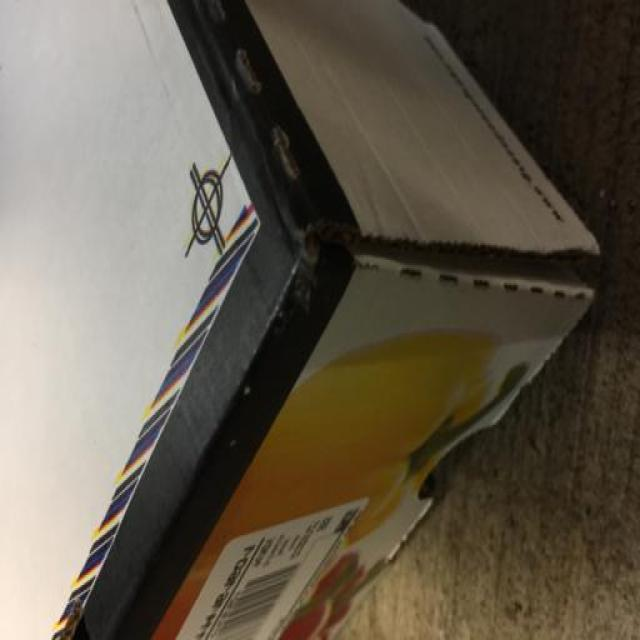cardboard: (2, 0, 602, 638)
